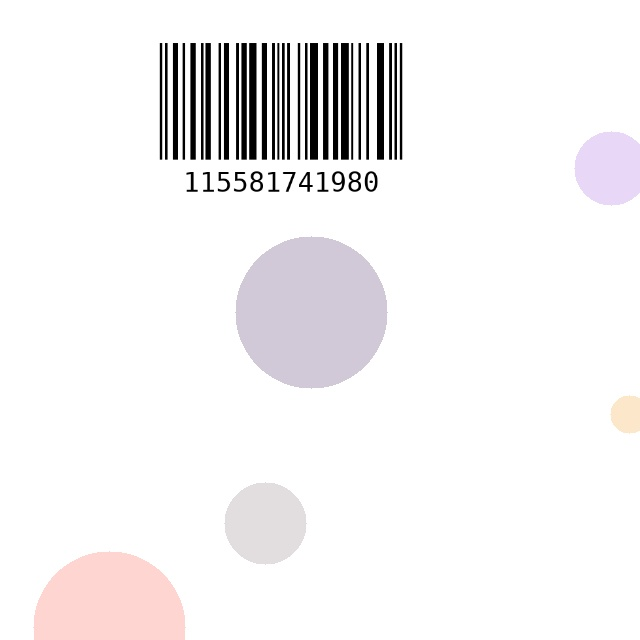barcode: (110, 36, 452, 219)
